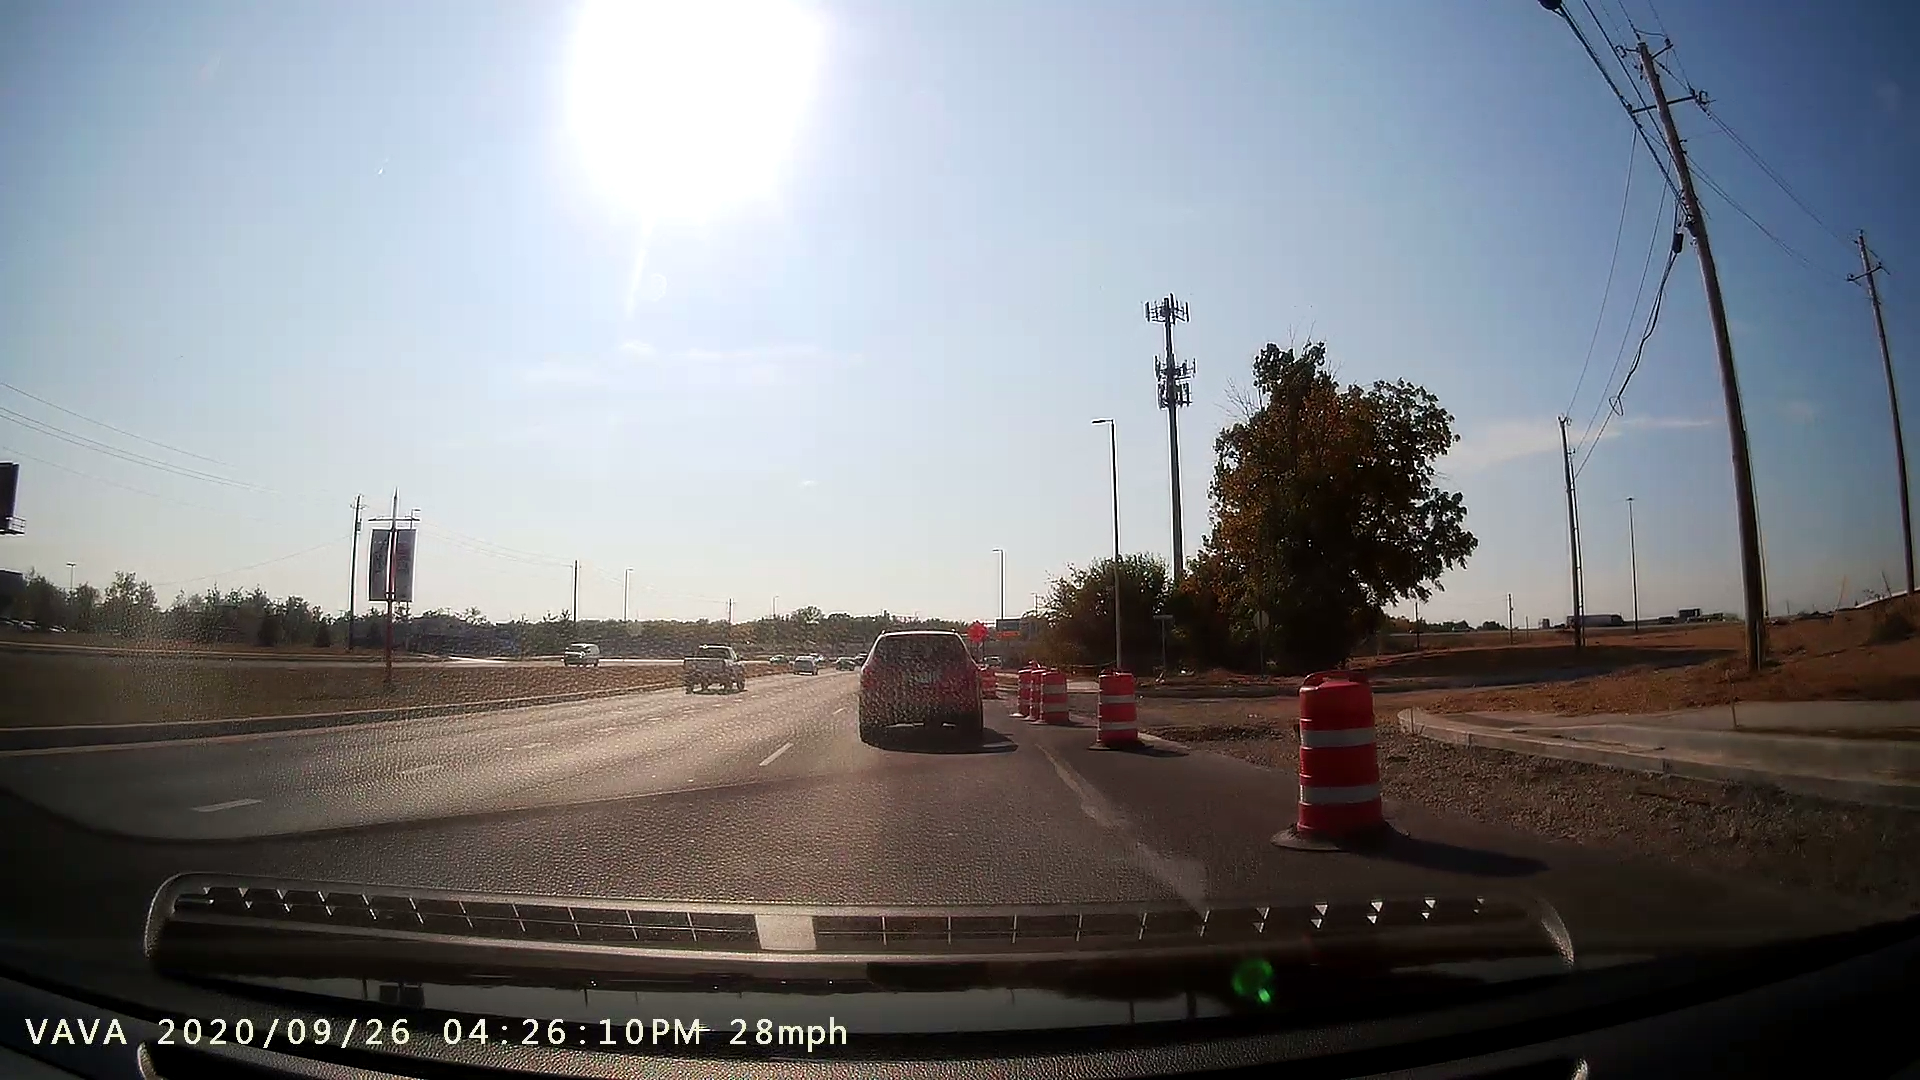const_barrel: (1269, 665, 1422, 860), (1083, 658, 1155, 760), (1029, 655, 1076, 732)
